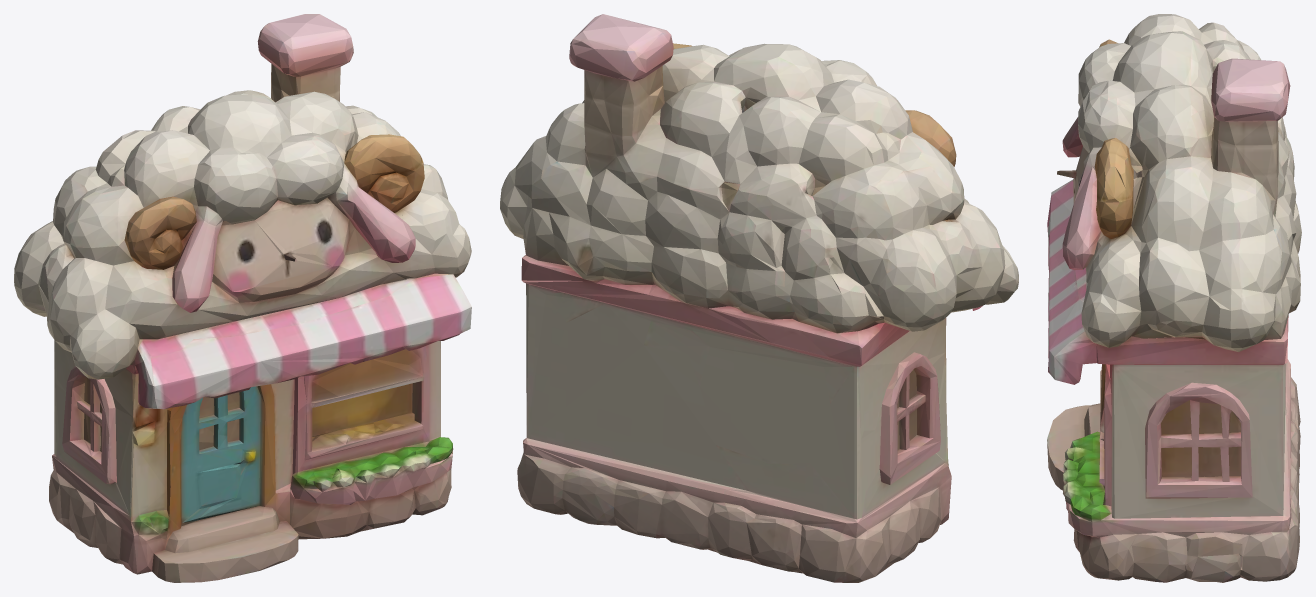
File: bakery.glb
3 renders of one model, left to right at view 1: azimuth 30°, elevation 25°; view 2: azimuth 150°, elevation 25°; view 3: azimuth 270°, elevation 25°, orthographic. The views are drawn at different scales.
Parts seen in each view (by area): view 1: geometry_0; view 2: geometry_0; view 3: geometry_0.
Boxes of the visible parts, <box> form: geometry_0: <box>14,14,471,582</box>; geometry_0: <box>500,14,1018,582</box>; geometry_0: <box>1047,14,1301,582</box>.
Bounding box in the file's own units: 0.9773 × 0.9989 × 0.4857.
Materials: 1 (1 with a texture image).
